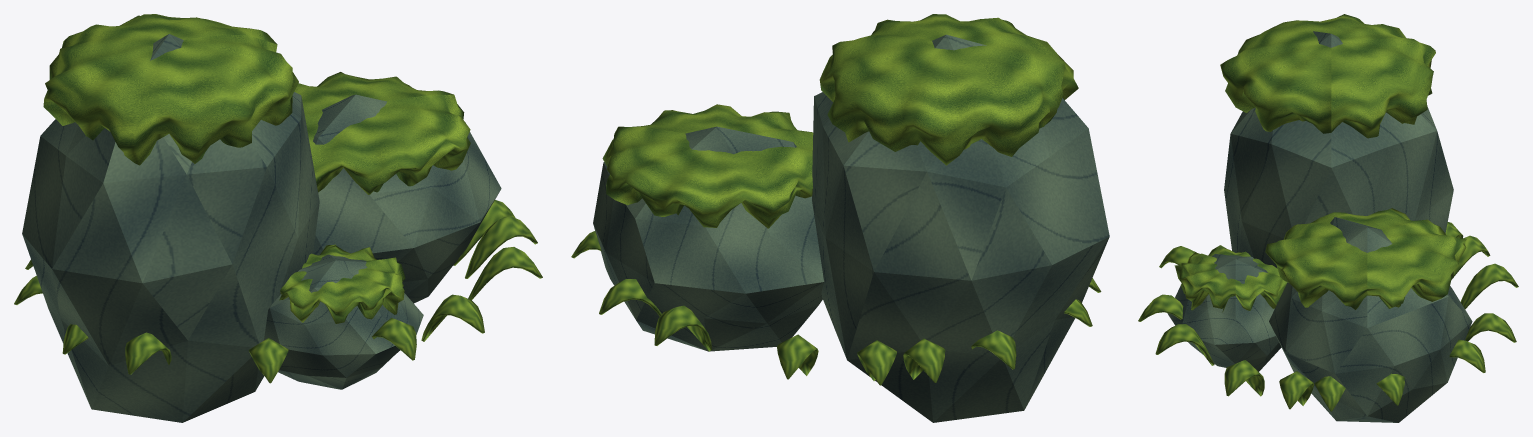
Rendered from mossy-rocks.glb.
The picture shows the model from 3 angles, left to right: view 1: azimuth 30°, elevation 25°; view 2: azimuth 150°, elevation 25°; view 3: azimuth 270°, elevation 25°; orthographic projection. The views are drawn at different scales.
Parts seen in each view (by area): view 1: mossy-rocks_stone, mossy-rocks_moss; view 2: mossy-rocks_stone, mossy-rocks_moss; view 3: mossy-rocks_stone, mossy-rocks_moss.
Boxes of the visible parts, box(x1,y1,x2,y2) form: mossy-rocks_stone: box(22, 34, 501, 422); mossy-rocks_moss: box(14, 14, 542, 383); mossy-rocks_stone: box(593, 34, 1109, 422); mossy-rocks_moss: box(571, 14, 1101, 385); mossy-rocks_stone: box(1167, 31, 1472, 422); mossy-rocks_moss: box(1138, 14, 1518, 411).
Bounding box in the file's own units: 2 × 1.44 × 1.59.
2 materials, 2 textured.
